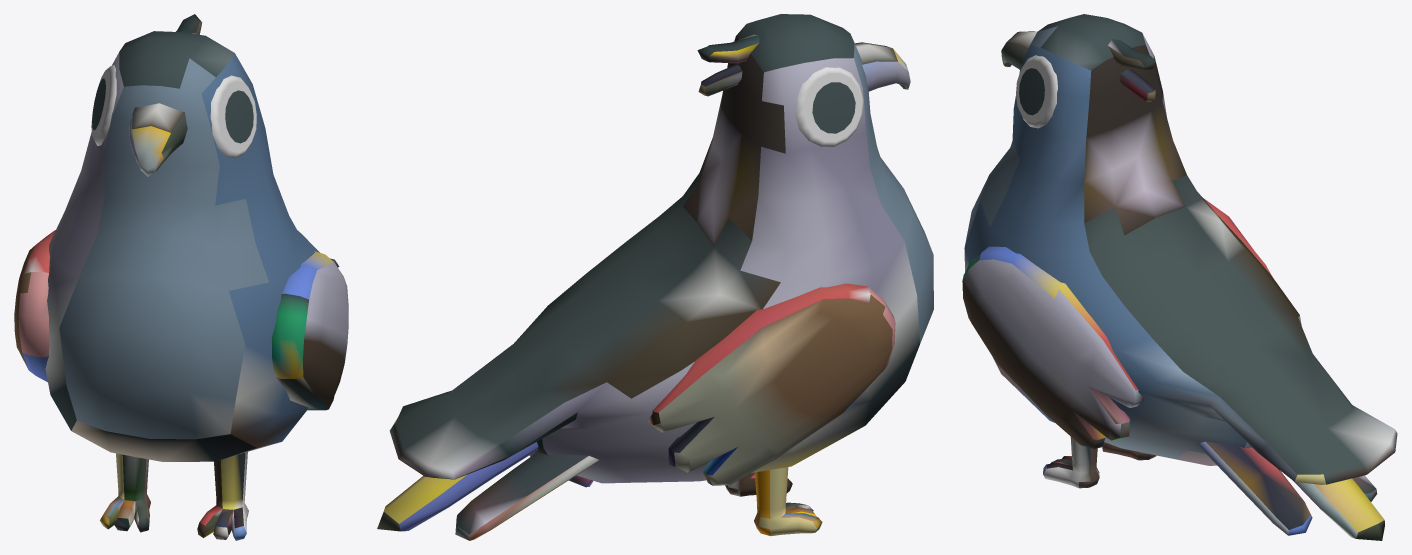
Rendered from Eagle.glb.
3 views of the same model, side by side, from view 1: azimuth 30°, elevation 25°; view 2: azimuth 150°, elevation 25°; view 3: azimuth 270°, elevation 25° (orthographic). The views are drawn at different scales.
Visible parts, largest first — view 1: 43; view 2: 43; view 3: 43.
Part boxes in pixels (box(x1,y1,x2,y2)): 43: box(14, 14, 348, 540); 43: box(377, 14, 933, 540); 43: box(962, 14, 1397, 540).
Bounding box in the file's own units: 0.7699 × 0.8804 × 0.7961.
